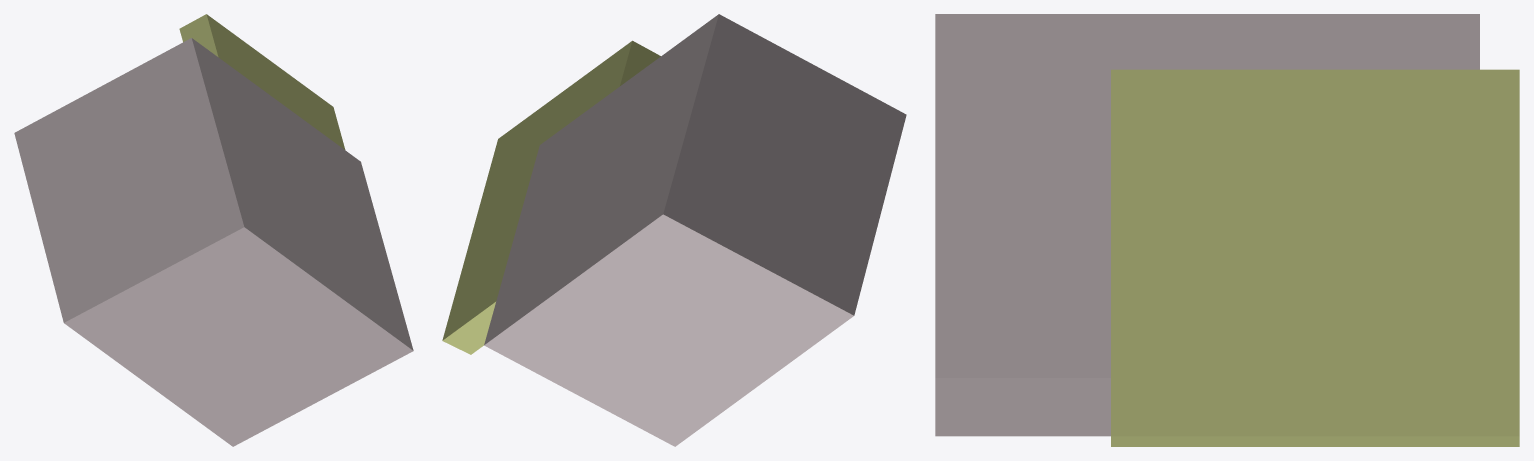
3 renders of one model, left to right at view 1: azimuth 30°, elevation 25°; view 2: azimuth 150°, elevation 25°; view 3: azimuth 270°, elevation 25°, orthographic. The views are drawn at different scales.
Visible parts, largest first — view 1: 0_1_3_2_2_2_2_0_0_2_1; view 2: 0_1_3_2_2_2_2_0_0_2_1; view 3: 0_1_3_2_2_2_2_0_0_2_1.
Boxes of the visible parts, x1=… form: 0_1_3_2_2_2_2_0_0_2_1: x1=14, y1=14, x2=413, y2=446; 0_1_3_2_2_2_2_0_0_2_1: x1=442, y1=14, x2=906, y2=446; 0_1_3_2_2_2_2_0_0_2_1: x1=935, y1=14, x2=1519, y2=446.
Size of the model in its own units: 10.53 by 10.25 by 12.87.
